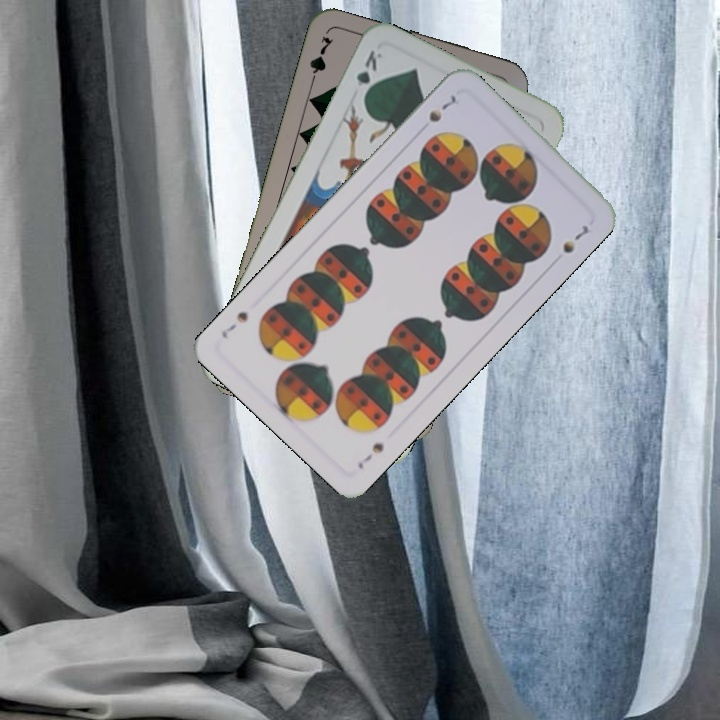G7: (305, 32, 336, 90)
GK: (352, 46, 385, 103)
S7: (424, 90, 459, 125), (353, 438, 387, 472)
